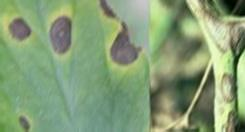Tomato Early blight leaf: (0, 0, 147, 132)
